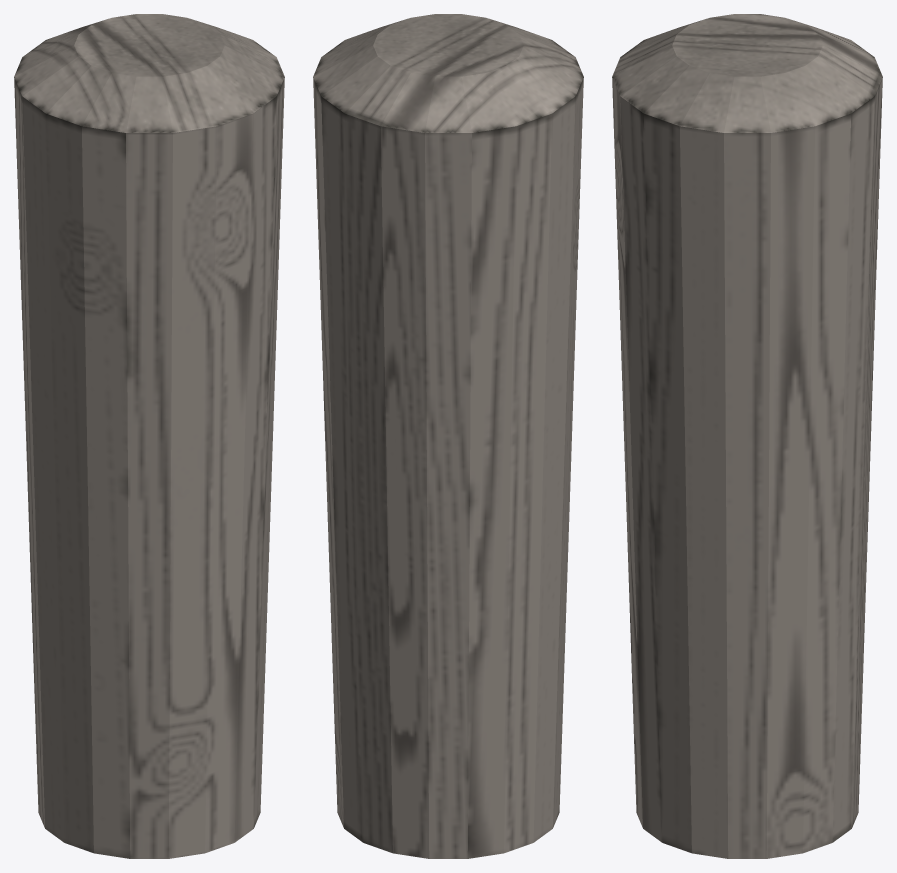
Rendered from fence_collection_1.fbx.
3 views of the same model, side by side, from view 1: azimuth 30°, elevation 25°; view 2: azimuth 150°, elevation 25°; view 3: azimuth 270°, elevation 25° (orthographic).
Visible parts, largest first — view 1: fence_cokllection_1; view 2: fence_cokllection_1; view 3: fence_cokllection_1.
Part boxes in pixels (x1,y1,x2,y2): fence_cokllection_1: [14, 14, 284, 858]; fence_cokllection_1: [313, 14, 583, 858]; fence_cokllection_1: [612, 14, 882, 858].
Bounding box in the file's own units: 65.67 × 209 × 66.68.
